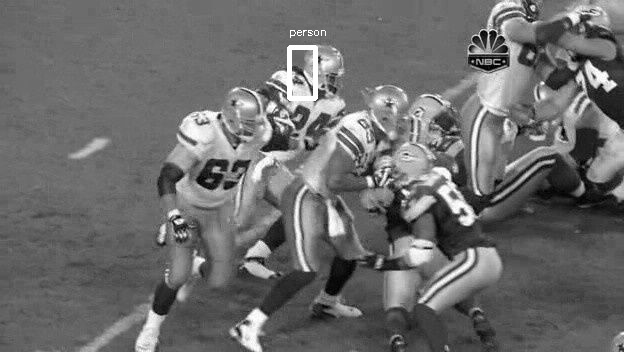person: (311, 42, 347, 87), (310, 42, 346, 87), (312, 42, 348, 87), (311, 41, 347, 86), (311, 43, 347, 88)
target_negative: (178, 223, 421, 278), (414, 323, 614, 334), (237, 208, 293, 247), (229, 249, 276, 287), (446, 298, 506, 311), (579, 111, 592, 143)
